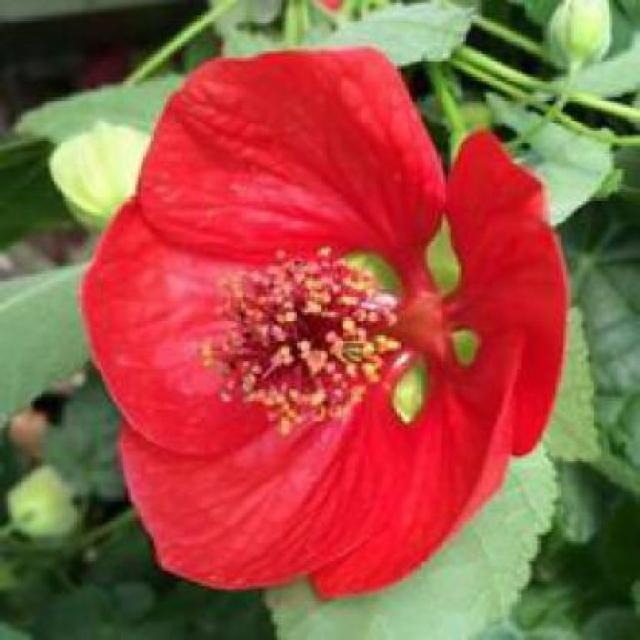Flower: (79, 46, 572, 605), (197, 245, 401, 438)
